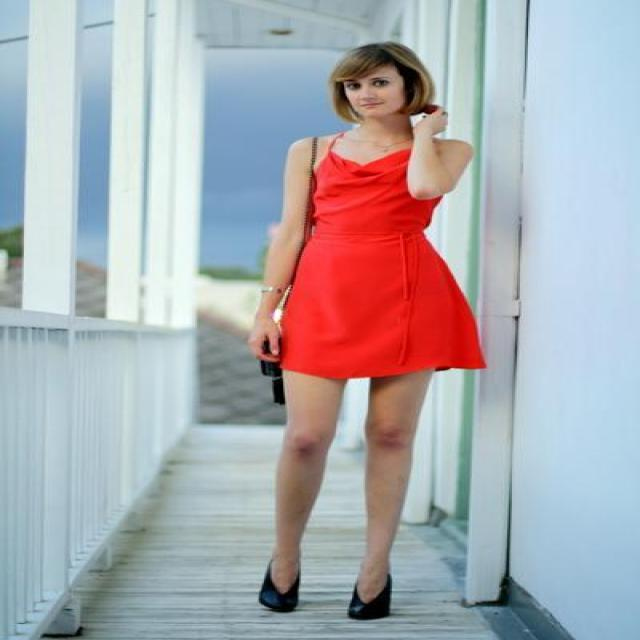dress: (280, 149, 478, 379)
shoe: (259, 576, 394, 619)
